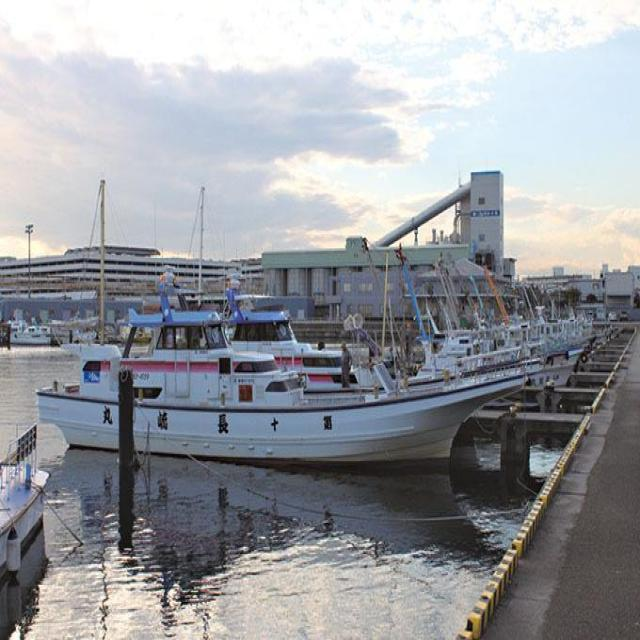houseboat: (39, 271, 513, 478)
